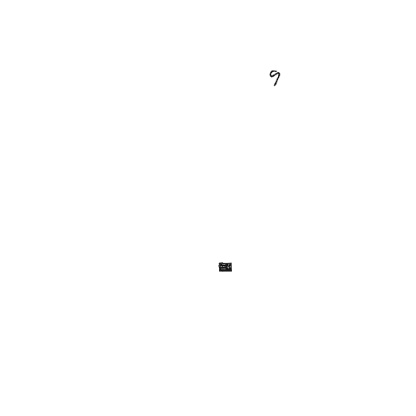9: (264, 65, 286, 87)
Bag: (218, 260, 232, 274)
